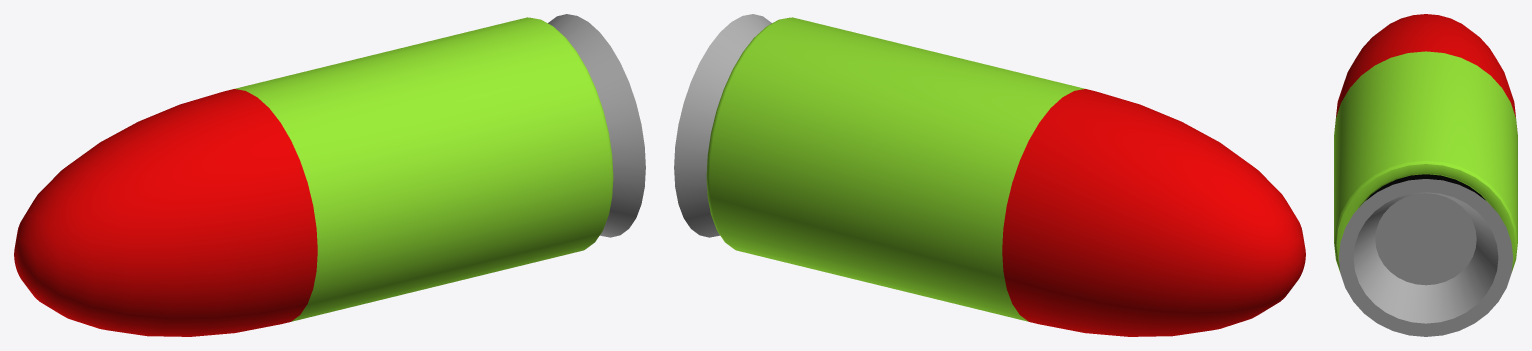
The model's file is Bullet.fbx.
The picture shows the model from 3 angles, left to right: view 1: azimuth 30°, elevation 25°; view 2: azimuth 150°, elevation 25°; view 3: azimuth 270°, elevation 25°; orthographic projection. The views are drawn at different scales.
Parts seen in each view (by area): view 1: Bullet; view 2: Bullet; view 3: Bullet.
Part boxes in pixels (x1,y1,x2,y2): Bullet: (14, 14, 645, 336); Bullet: (674, 14, 1305, 336); Bullet: (1334, 14, 1517, 336).
Bounding box in the file's own units: 0.125 × 0.125 × 0.34.
